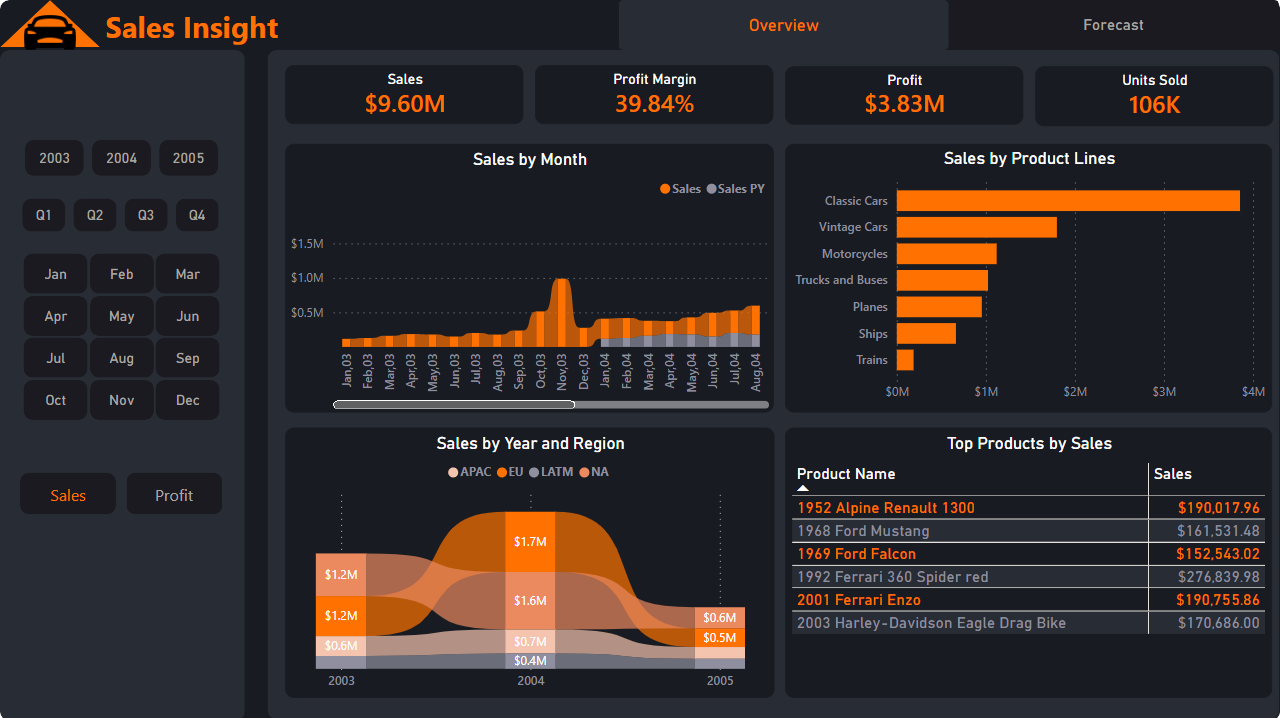

What the dashboard file says about the page in this screenshot:
{"tool":"powerbi","page":{"name":"Overview","canvas":[1280,720],"ordinal":0},"visuals":[{"type":"shape","box":[0,0,100.1,47.2],"z":0,"group":"g2"},{"type":"advancedSlicerVisual","fields":{"Values":["DateTable.Year"]},"box":[21,135.1,203.1,46.4],"z":0,"group":"g1"},{"type":"image","box":[0,0,100.1,65.1],"z":1000,"group":"g2"},{"type":"ribbonChart","title":"Profit by Month","fields":{"Category":["DateTable.Month Short Name Plus Year"],"Y":["MyMeasure.Profit","MyMeasure.Profit PY"]},"box":[315,143.3,466.7,270],"z":1000},{"type":"advancedSlicerVisual","title":"Month","fields":{"Values":["DateTable.Month Short Name"]},"box":[19.2,249,206,176.2],"z":1000,"group":"g1"},{"type":"shape","box":[0,0,1280.3,720.1],"z":2000},{"type":"advancedSlicerVisual","title":"Month","fields":{"Values":["payments.Quarter"]},"box":[18.1,194.4,206,43.7],"z":2000,"group":"g1"},{"type":"shape","box":[267.7,49.4,1011.9,669.3],"z":5000},{"type":"shape","box":[0,49.4,244.8,670.6],"z":7000},{"type":"card","fields":{"Values":["MyMeasure.Sales"]},"box":[284.6,65.1,238.8,59.1],"z":8000},{"type":"clusteredBarChart","title":"Sales by Product Lines","fields":{"Category":["productlines.productLine"],"Y":["MyMeasure.Sales"]},"box":[785.1,143.5,487.2,268.9],"z":10375},{"type":"ribbonChart","fields":{"Series":["Table.Region"],"Category":["DateTable.Year"],"Y":["MyMeasure.Sales"]},"box":[284.6,426.9,489.6,270.2],"z":10500},{"type":"ribbonChart","title":"Sales by Month","fields":{"Category":["DateTable.Month Short Name Plus Year"],"Y":["MyMeasure.Sales","MyMeasure.Sales PY"]},"box":[284.6,143.5,488.4,268.9],"z":11000},{"type":"tableEx","title":"Top Products by Sales","fields":{"Values":["products.productName","MyMeasure.Sales"]},"box":[785.1,426.9,487.2,270.2],"z":11500},{"type":"card","fields":{"Values":["MyMeasure.Units Sold"]},"box":[1035,66.7,238,60],"z":12000},{"type":"card","fields":{"Values":["MyMeasure.Profit Margin"]},"box":[535.3,65.1,238,59.1],"z":13000},{"type":"card","fields":{"Values":["MyMeasure.Profit"]},"box":[785.1,66.7,238,58.3],"z":14000},{"type":"group","id":"g1","title":"Group 1","box":[18.1,135.1,207.4,289.4],"z":15000},{"type":"bookmarkNavigator","box":[20.5,472.8,202.6,42.2],"z":16000},{"type":"pageNavigator","box":[618.3,0,661.7,50],"z":17000},{"type":"actionButton","box":[101.7,0,191.7,50],"z":18000},{"type":"group","id":"g2","title":"Group 2","box":[0,0,100.1,65.1],"z":19000}]}

Visuals, with their boxes in screenshot pixels (x1, y1, x2, y2), scaled from the page's 1280x720 canvas onto the 1280x718 screenshot:
shape: <region>0, 0, 100, 47</region>
advancedSlicerVisual - DateTable.Year: <region>21, 135, 224, 181</region>
image: <region>0, 0, 100, 65</region>
"Profit by Month" ribbonChart: <region>315, 143, 782, 412</region>
"Month" advancedSlicerVisual: <region>19, 248, 225, 424</region>
shape: <region>0, 0, 1279, 717</region>
"Month" advancedSlicerVisual: <region>18, 194, 224, 237</region>
shape: <region>268, 49, 1279, 717</region>
shape: <region>0, 49, 245, 717</region>
card - MyMeasure.Sales: <region>285, 65, 523, 124</region>
"Sales by Product Lines" clusteredBarChart: <region>785, 143, 1272, 411</region>
ribbonChart - Table.Region x DateTable.Year: <region>285, 426, 774, 695</region>
"Sales by Month" ribbonChart: <region>285, 143, 773, 411</region>
"Top Products by Sales" tableEx: <region>785, 426, 1272, 695</region>
card - MyMeasure.Units Sold: <region>1035, 67, 1273, 126</region>
card - MyMeasure.Profit Margin: <region>535, 65, 773, 124</region>
card - MyMeasure.Profit: <region>785, 67, 1023, 125</region>
"Group 1" group: <region>18, 135, 226, 423</region>
bookmarkNavigator: <region>20, 471, 223, 514</region>
pageNavigator: <region>618, 0, 1279, 50</region>
actionButton: <region>102, 0, 293, 50</region>
"Group 2" group: <region>0, 0, 100, 65</region>
